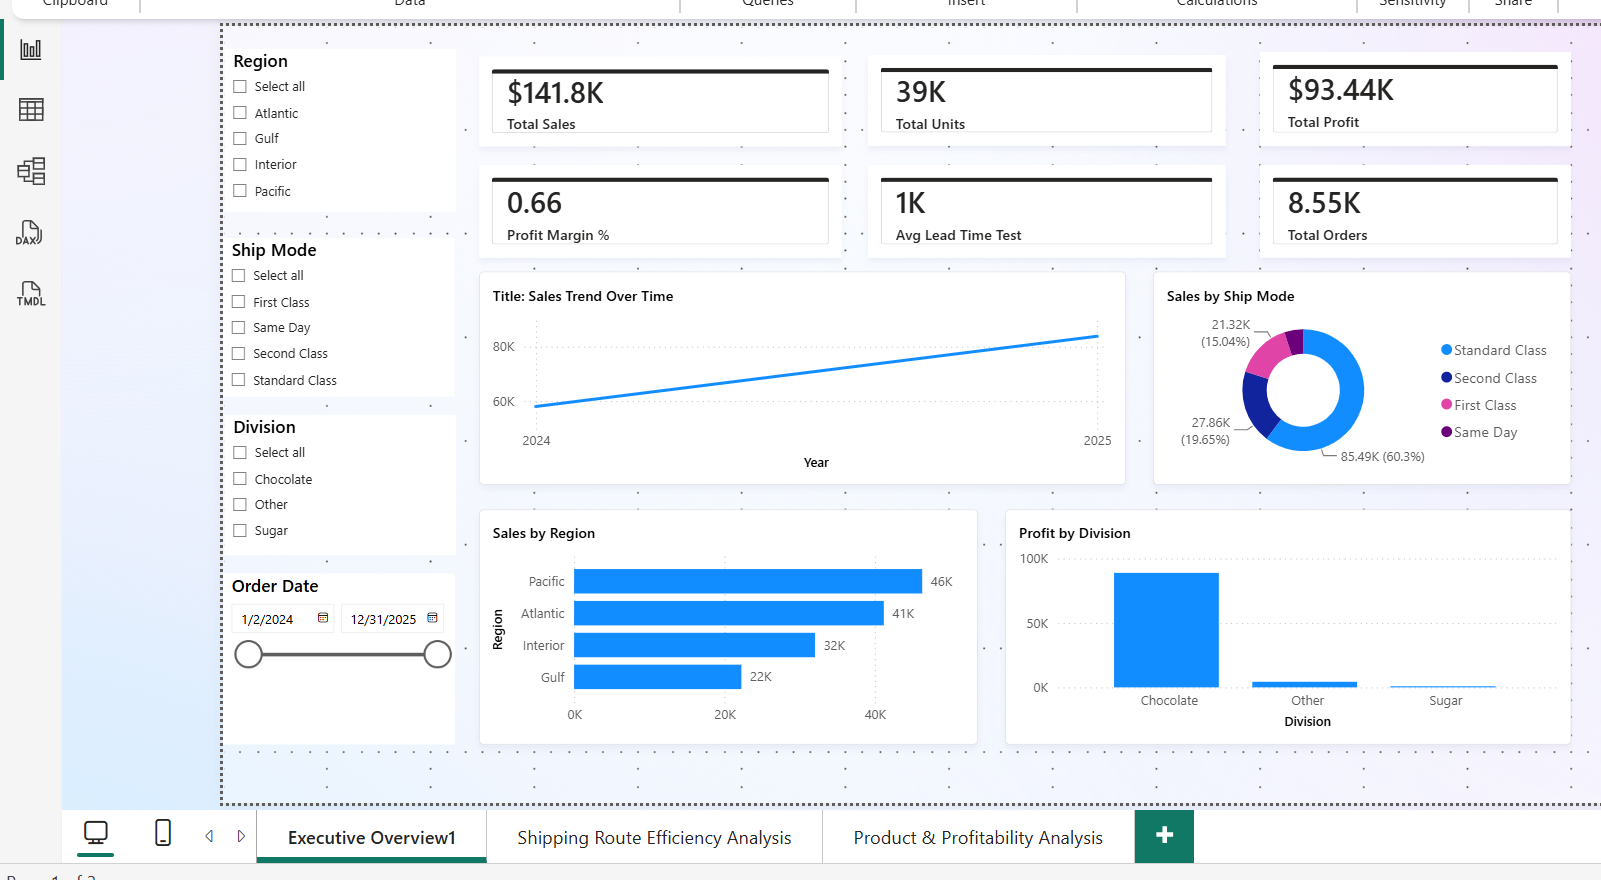

The page's visual inventory and layout, read from the dashboard file:
{"tool":"powerbi","page":{"name":"Executive Overview1","canvas":[1280,720],"ordinal":0},"visuals":[{"type":"cardVisual","fields":{"Data":["Nassau Candy Distributor.Total Sales"]},"box":[237.2,28.2,336,83.3],"z":0},{"type":"cardVisual","fields":{"Data":["Nassau Candy Distributor.Total Profit"]},"box":[960,24,288,87.5],"z":1000},{"type":"cardVisual","fields":{"Data":["Nassau Candy Distributor.Total Orders"]},"box":[960,128.5,288,86.1],"z":2000},{"type":"cardVisual","fields":{"Data":["Nassau Candy Distributor.Total Units"]},"box":[597.2,26.8,331.8,84.7],"z":3000},{"type":"cardVisual","fields":{"Data":["Nassau Candy Distributor.Profit Margin %"]},"box":[237.2,128.5,336,86.1],"z":4000},{"type":"cardVisual","fields":{"Data":["Nassau Candy Distributor.Avg Lead Time Test"]},"box":[597.2,128.5,331.8,86.1],"z":5000},{"type":"lineChart","title":"Title: Sales Trend Over Time","fields":{"Category":["Nassau Candy Distributor.Order Date.Variation.Date Hierarchy.Year","Nassau Candy Distributor.Order Date.Variation.Date Hierarchy.Quarter","Nassau Candy Distributor.Order Date.Variation.Date Hierarchy.Month","Nassau Candy Distributor.Order Date.Variation.Date Hierarchy.Day"],"Y":["Sum(Nassau Candy Distributor.Sales)"]},"box":[237.2,227.3,598.6,197.6],"z":6000},{"type":"clusteredBarChart","title":"Sales by Region","fields":{"Category":["Nassau Candy Distributor.Region"],"Y":["Sum(Nassau Candy Distributor.Sales)"]},"box":[237.2,447.5,461.6,217.4],"z":7000},{"type":"donutChart","title":"Sales by Ship Mode","fields":{"Category":["Nassau Candy Distributor.Ship Mode"],"Y":["Sum(Nassau Candy Distributor.Sales)"]},"box":[861.2,227.3,386.8,197.6],"z":8000},{"type":"columnChart","title":"Profit by Division","fields":{"Category":["Nassau Candy Distributor.Division"],"Y":["Sum(Nassau Candy Distributor.Gross Profit)"]},"box":[724.2,447.5,523.8,217.4],"z":9000},{"type":"slicer","fields":{"Values":["Nassau Candy Distributor.Region"]},"box":[1.4,21.2,214.6,151.1],"z":10000},{"type":"slicer","fields":{"Values":["Nassau Candy Distributor.Ship Mode"]},"box":[0,196.2,214.6,146.8],"z":11000},{"type":"slicer","fields":{"Values":["Nassau Candy Distributor.Division"]},"box":[1.4,360,214.6,129.9],"z":12000},{"type":"slicer","fields":{"Values":["Nassau Candy Distributor.Order Date"]},"box":[0,506.8,214.6,158.1],"z":13000}]}

Visuals, with their boxes on the page's 1280x720 design canvas (x1, y1, x2, y2). These are canvas units, not pixel positions in the 1601x880 screenshot, which may show the page scaled, cropped or inside an application window:
cardVisual - Nassau Candy Distributor.Total Sales: (237, 28, 573, 112)
cardVisual - Nassau Candy Distributor.Total Profit: (960, 24, 1248, 112)
cardVisual - Nassau Candy Distributor.Total Orders: (960, 128, 1248, 215)
cardVisual - Nassau Candy Distributor.Total Units: (597, 27, 929, 112)
cardVisual - Nassau Candy Distributor.Profit Margin %: (237, 128, 573, 215)
cardVisual - Nassau Candy Distributor.Avg Lead Time Test: (597, 128, 929, 215)
"Title: Sales Trend Over Time" lineChart: (237, 227, 836, 425)
"Sales by Region" clusteredBarChart: (237, 448, 699, 665)
"Sales by Ship Mode" donutChart: (861, 227, 1248, 425)
"Profit by Division" columnChart: (724, 448, 1248, 665)
slicer - Nassau Candy Distributor.Region: (1, 21, 216, 172)
slicer - Nassau Candy Distributor.Ship Mode: (0, 196, 215, 343)
slicer - Nassau Candy Distributor.Division: (1, 360, 216, 490)
slicer - Nassau Candy Distributor.Order Date: (0, 507, 215, 665)
